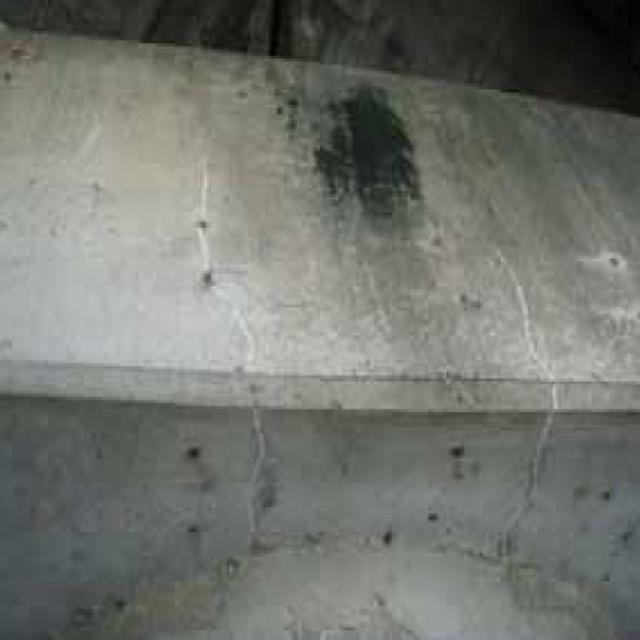crack: (171, 167, 283, 592), (490, 250, 573, 573)
leakage: (308, 76, 398, 253)
